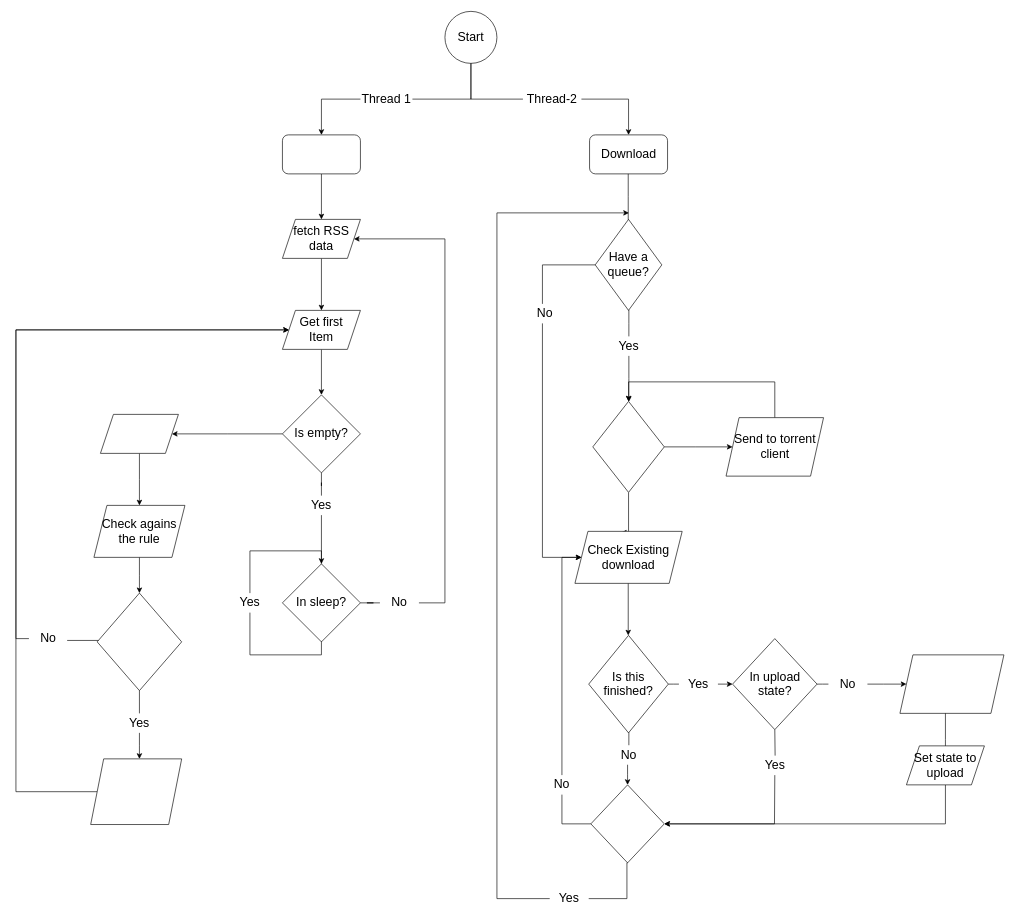
Image size: 1015x920. Some labels were removed from this diagram. Here are the shapes that lost their labels. From the top down, the centre of each, then its label:
(x=321, y=154): RSS Watcher
(x=139, y=433): Parse filename
(x=628, y=446): have download slot
(x=139, y=641): Should download
(x=951, y=683): Spawn new upload thread
(x=136, y=791): Add to queue
(x=627, y=823): Is all checked?
